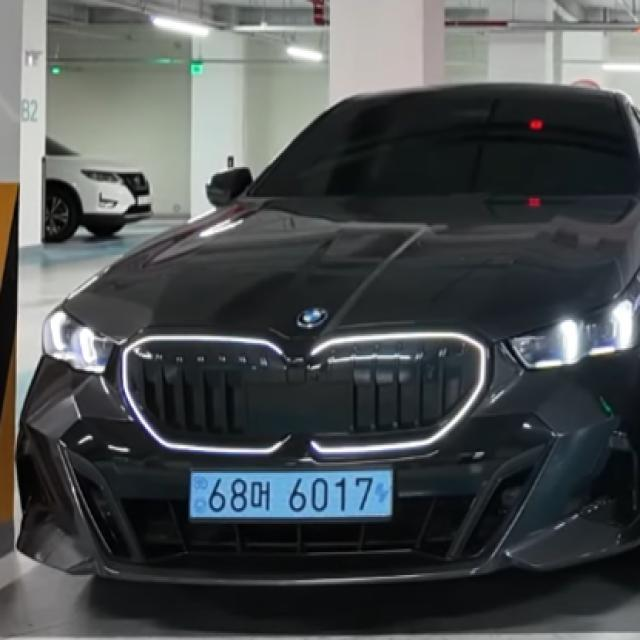car: (170, 458, 411, 538)
carev: (373, 467, 397, 523), (187, 470, 211, 525)
